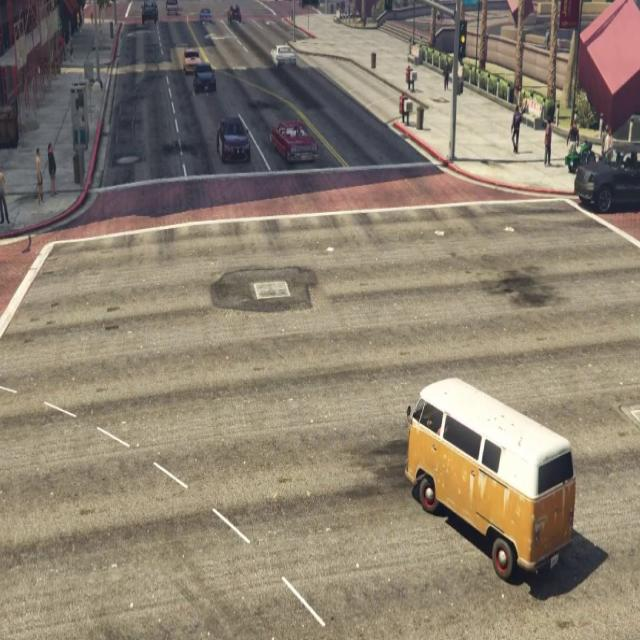Yellow-Signal: (456, 16, 471, 65), (299, 0, 323, 16), (382, 0, 397, 23)
